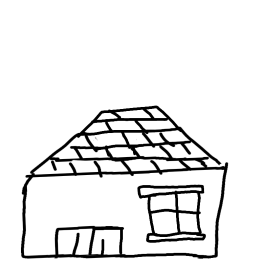bottom_placed_house: (1, 1, 260, 260)
closed_window: (133, 179, 211, 244)
door: (50, 218, 130, 260)
roof: (23, 96, 237, 181)
wall: (13, 169, 239, 260)
